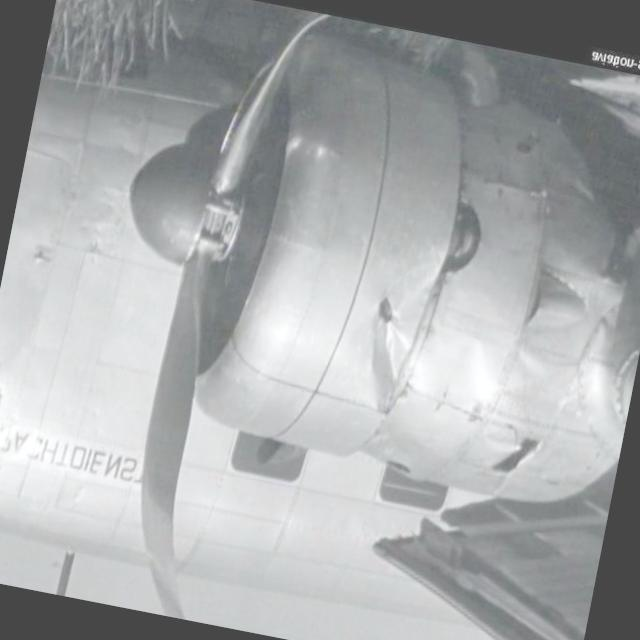dent: (352, 272, 426, 396)
